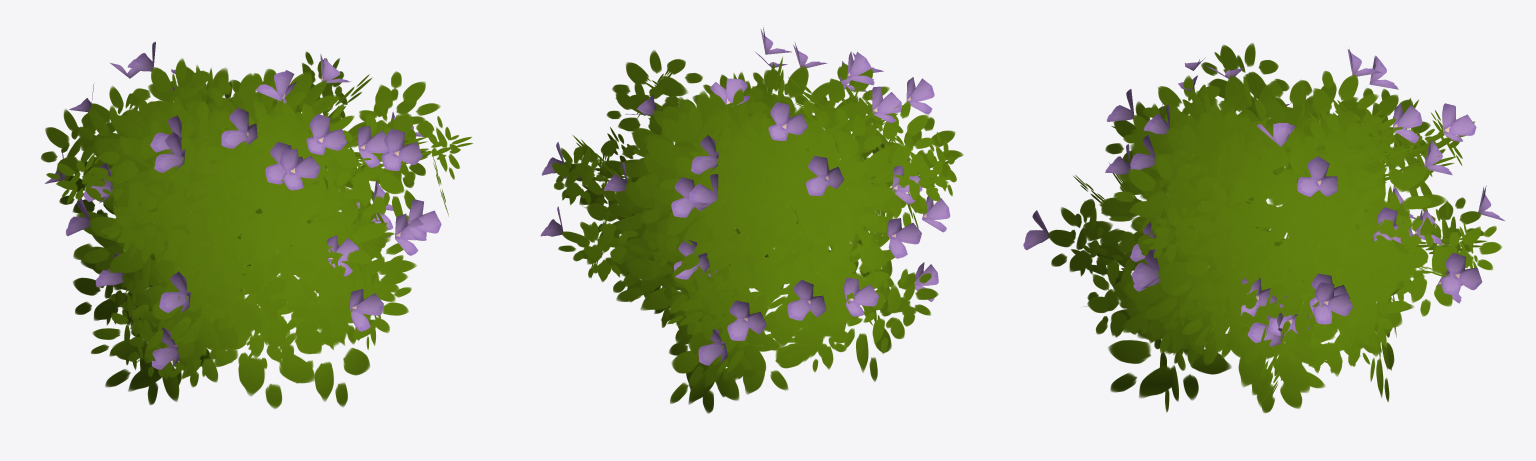
Rendered from bush.glb.
3 renders of one model, left to right at view 1: azimuth 30°, elevation 25°; view 2: azimuth 150°, elevation 25°; view 3: azimuth 270°, elevation 25°, orthographic. The views are drawn at different scales.
Visible parts, largest first — view 1: Bush_Common_Flowers; view 2: Bush_Common_Flowers; view 3: Bush_Common_Flowers.
Part boxes in pixels (<box>): Bush_Common_Flowers: <box>41,41,473,408</box>; Bush_Common_Flowers: <box>540,27,963,413</box>; Bush_Common_Flowers: <box>1023,43,1504,412</box>.
Size of the model in its own units: 1.91 by 1.58 by 1.97.
Materials: 2 (2 with a texture image).
